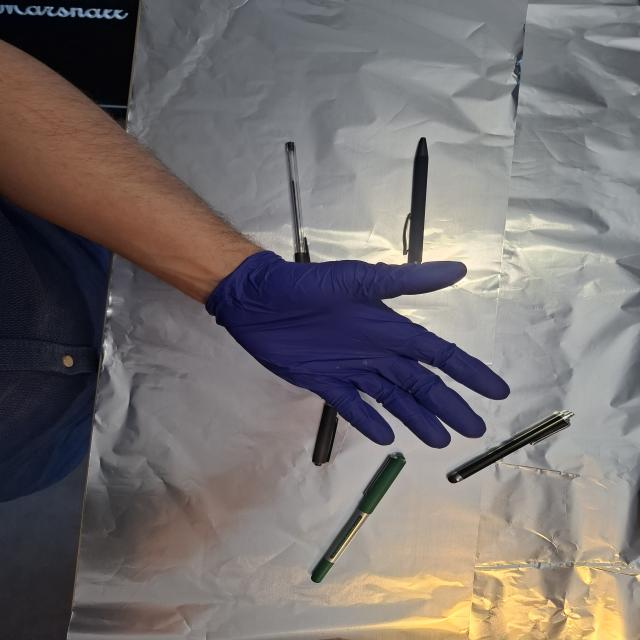glove_on: (206, 253, 512, 450)
